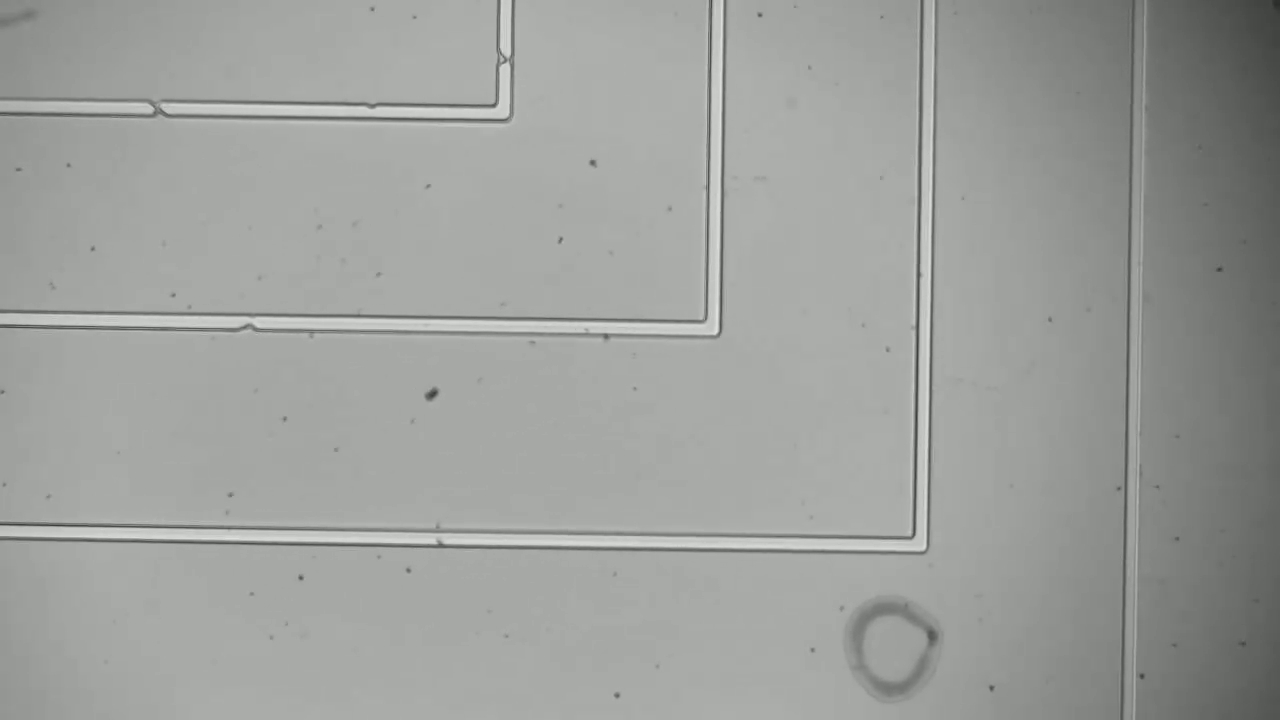edge_bite: (489, 40, 525, 74), (234, 303, 267, 338)
open: (137, 94, 178, 121)
